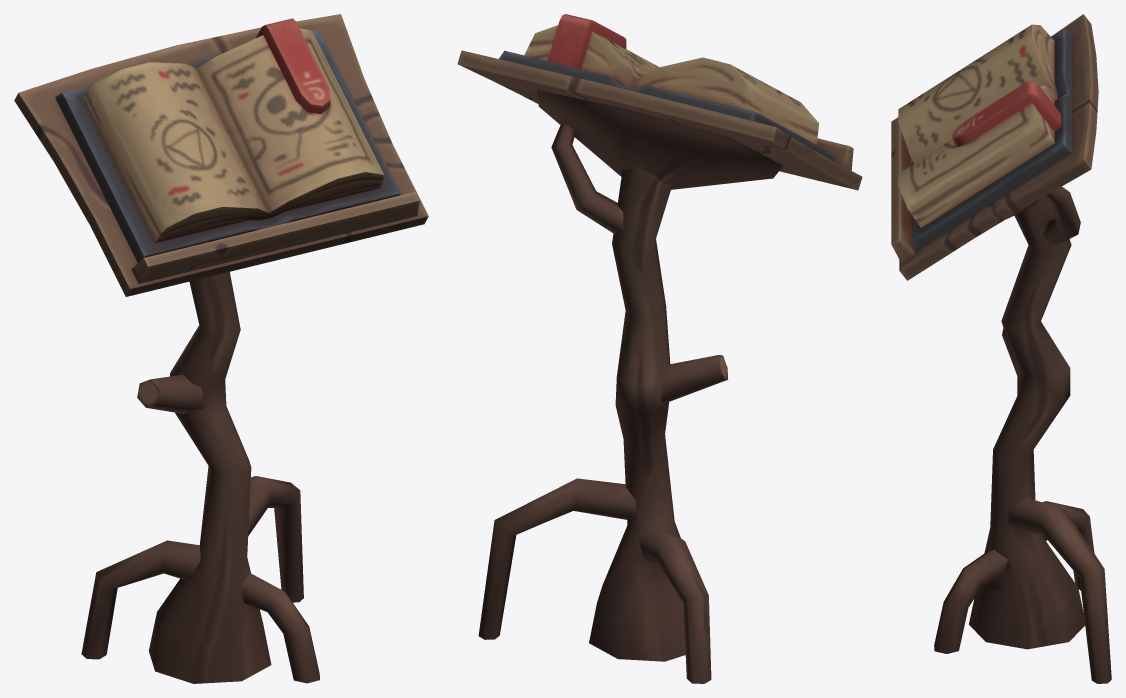
Rendered from book_stand.fbx.
3 views of the same model, side by side, from view 1: azimuth 30°, elevation 25°; view 2: azimuth 150°, elevation 25°; view 3: azimuth 270°, elevation 25° (orthographic). The views are drawn at different scales.
Visible parts, largest first — view 1: book_stand; view 2: book_stand; view 3: book_stand.
Boxes of the visible parts, x1,y1,x2,y2 form: book_stand: [14, 14, 428, 683]; book_stand: [457, 14, 862, 683]; book_stand: [891, 14, 1111, 683].
Bounding box in the file's own units: 93.13 × 170 × 59.72.
